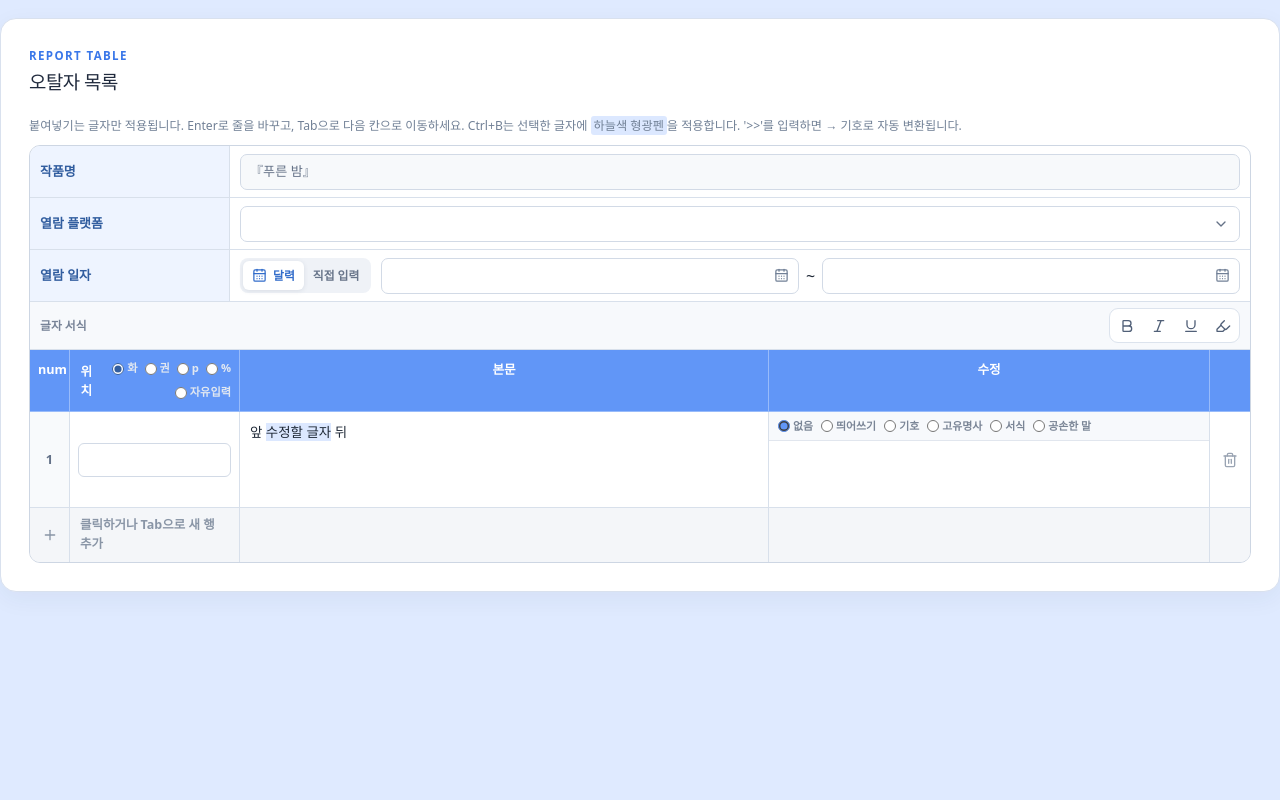
Test: 오탈자 표 › 본문에서 형광펜을 적용한 글자를 빈 수정란에 자동 입력한다
Clear the field named "1행 본문": (298, 432) [250,423,347,441]
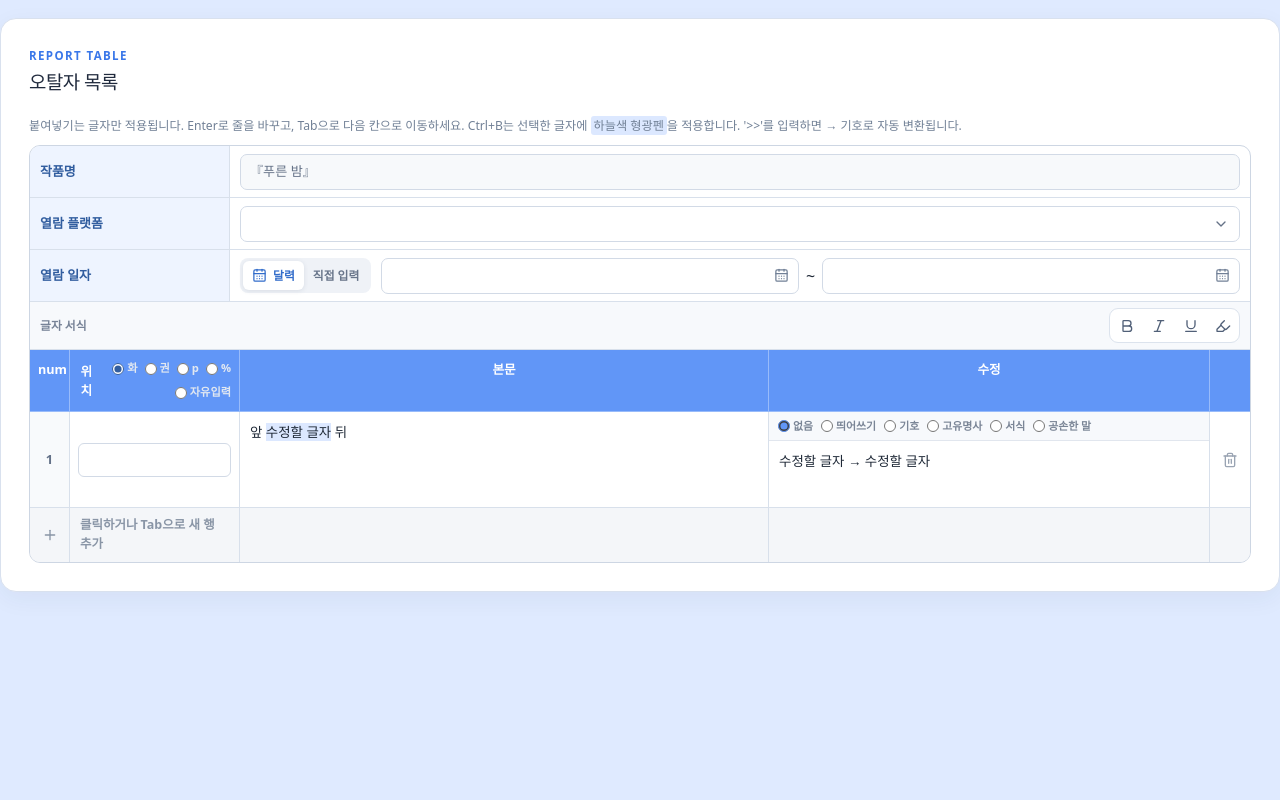
Now the field named "1행 수정" reads "수정할 글자 → 수정할 글자", box [779,452,930,470]
